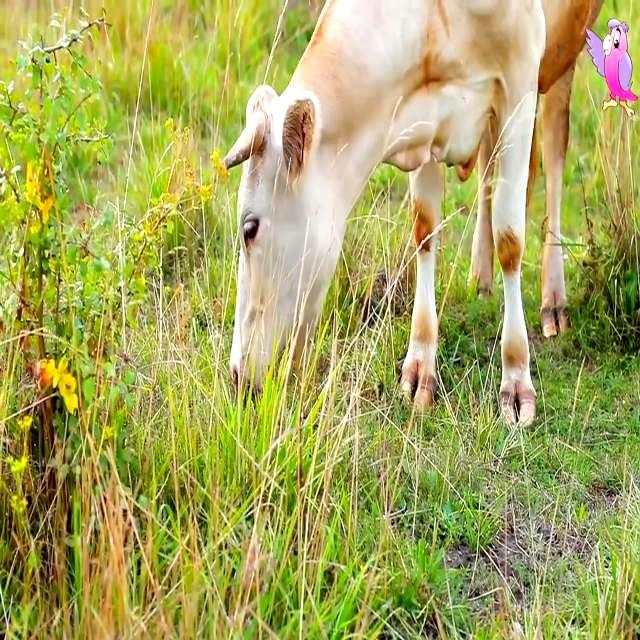COW: (225, 0, 602, 424)
